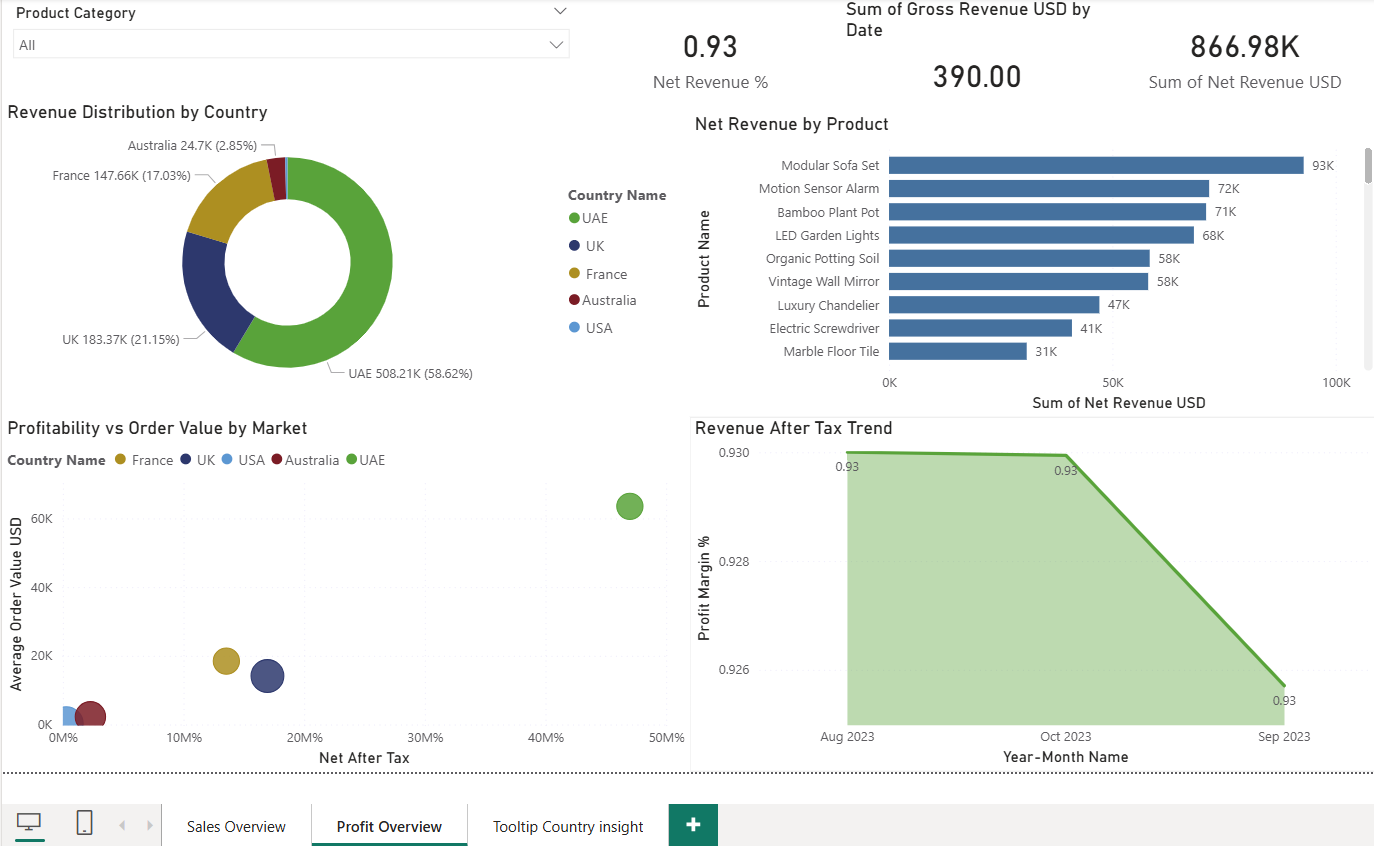

The dashboard page shown, as its layout file describes it:
{"tool":"powerbi","page":{"name":"Profit Overview","canvas":[1280,720],"ordinal":1},"visuals":[{"type":"clusteredBarChart","title":"Net Revenue by Product","fields":{"Y":["Sum(Sales in USD.Net Revenue USD)"],"Category":["Sales in USD.Product Name"]},"box":[640,107.1,640,295.7],"z":0},{"type":"donutChart","title":"Yearly Profit Margin by Country","fields":{"Category":["Sales in USD.Country Name"],"Y":["Sales in USD.Yearly Profit Margin"]},"box":[25.7,107.1,614.3,282.9],"z":1000},{"type":"areaChart","title":"Yearly Profit Margin Over Time","fields":{"Y":["Sales in USD.Yearly Profit Margin"],"Category":["CalendarTable.Date"]},"box":[640,390,640,330],"z":2000},{"type":"card","fields":{"Values":["Sales in USD.YTD Profit Margin","select"]},"box":[538.5,0,241.8,106.9],"z":3000},{"type":"card","fields":{"Values":["Sum(Sales in USD.Net Revenue USD)"]},"box":[1034.2,0,245.8,106.9],"z":4000},{"type":"kpi","fields":{"Indicator":["Sum(Sales in USD.Gross Revenue USD)"],"TrendLine":["CalendarTable.Date"]},"box":[780.3,0,253.9,106.9],"z":5000},{"type":"slicer","fields":{"Values":["Sales.Product Category"]},"box":[0,0,538.6,107.1],"z":6000},{"type":"scatterChart","title":"Profitability vs Order Value by Market","fields":{"X":["Sales in USD.Yearly Profit Margin"],"Size":["CountNonNull(Sales in USD.Net Revenue USD)"],"Series":["Sales in USD.Country Name"],"Y":["Sales in USD.Average Order Value USD"]},"box":[0,390,640,330],"z":6001}]}

Visuals, with their boxes on the page's 1280x720 design canvas (x1, y1, x2, y2). These are canvas units, not pixel positions in the 1374x846 screenshot, which may show the page scaled, cropped or inside an application window:
"Net Revenue by Product" clusteredBarChart: <bbox>640, 107, 1280, 403</bbox>
"Yearly Profit Margin by Country" donutChart: <bbox>26, 107, 640, 390</bbox>
"Yearly Profit Margin Over Time" areaChart: <bbox>640, 390, 1280, 720</bbox>
card - Sales in USD.YTD Profit Margin x select: <bbox>538, 0, 780, 107</bbox>
card - Sum(Sales in USD.Net Revenue USD): <bbox>1034, 0, 1280, 107</bbox>
kpi - Sum(Sales in USD.Gross Revenue USD) x CalendarTable.Date: <bbox>780, 0, 1034, 107</bbox>
slicer - Sales.Product Category: <bbox>0, 0, 539, 107</bbox>
"Profitability vs Order Value by Market" scatterChart: <bbox>0, 390, 640, 720</bbox>
